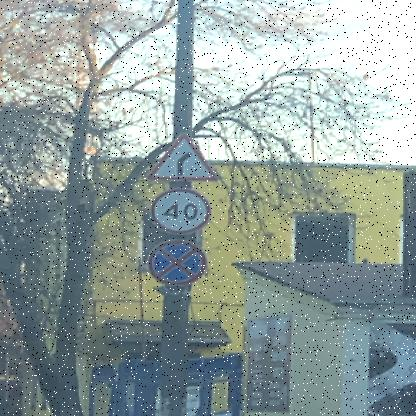speedlimit: (148, 188, 208, 232)
